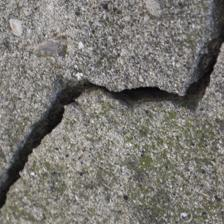Crack: (85, 18, 222, 121), (4, 79, 89, 208)
